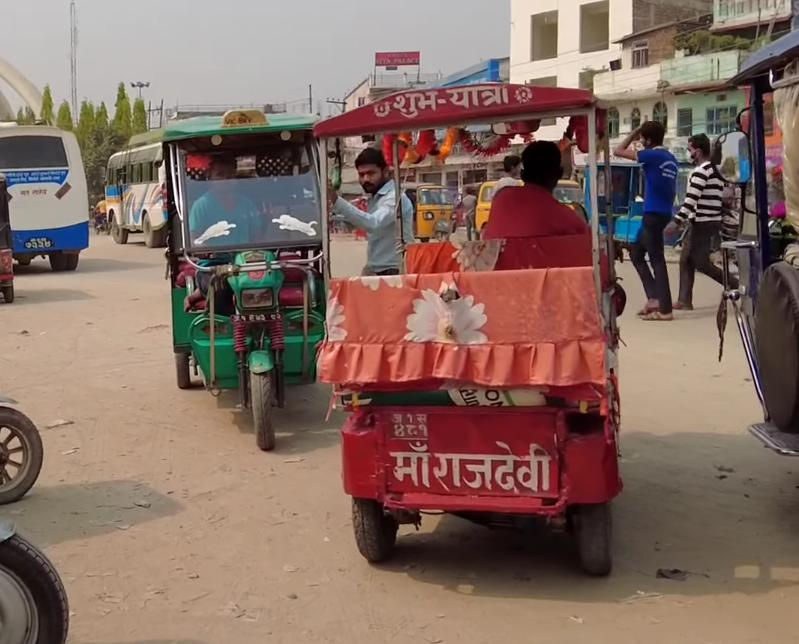auto_rickshaw: (402, 182, 459, 245)
bus: (0, 117, 93, 275), (105, 130, 180, 250)
e-rickshaw: (309, 58, 635, 586), (132, 101, 353, 459)
